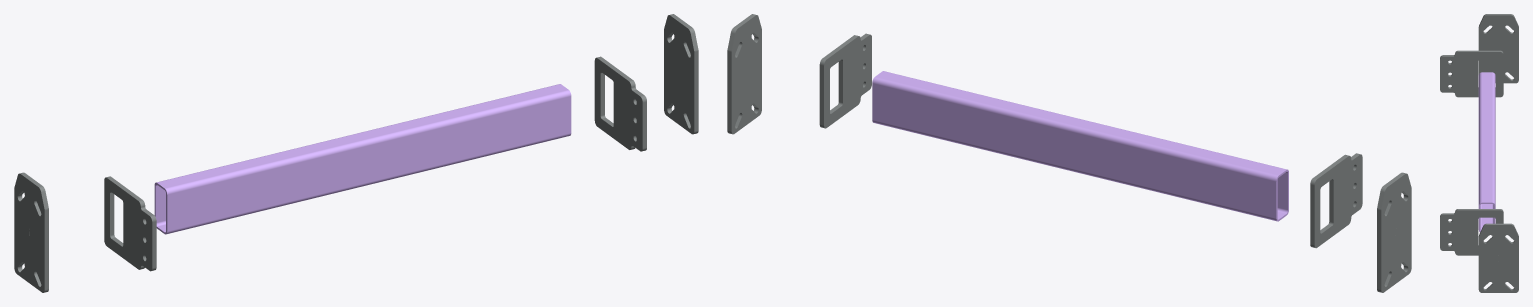
The model's file is bodylock.glb.
The picture shows the model from 3 angles, left to right: view 1: azimuth 30°, elevation 25°; view 2: azimuth 150°, elevation 25°; view 3: azimuth 270°, elevation 25°; orthographic projection. The views are drawn at different scales.
Visible parts, largest first — view 1: CFP055A BODYLOCK RHS A_STANDARD<As Machined>, STE463, STE689, STE690, STE688; view 2: CFP055A BODYLOCK RHS A_STANDARD<As Machined>, STE463, STE689, STE690, STE688; view 3: STE689, CFP055A BODYLOCK RHS A_STANDARD<As Machined>, STE688, STE463, STE690.
Boxes of the visible parts, x1,y1,x2,y2 form: CFP055A BODYLOCK RHS A_STANDARD<As Machined>: [154, 84, 571, 234]; STE463: [14, 172, 48, 292]; STE689: [664, 14, 698, 134]; STE690: [594, 56, 646, 151]; STE688: [104, 176, 156, 271]; CFP055A BODYLOCK RHS A_STANDARD<As Machined>: [872, 71, 1288, 221]; STE463: [1377, 172, 1411, 292]; STE689: [727, 14, 761, 134]; STE690: [819, 33, 871, 128]; STE688: [1310, 153, 1362, 248]; STE689: [1478, 223, 1518, 292]; CFP055A BODYLOCK RHS A_STANDARD<As Machined>: [1478, 72, 1495, 231]; STE688: [1440, 50, 1503, 97]; STE463: [1478, 14, 1518, 83]; STE690: [1440, 209, 1503, 255].
Bounding box in the file's own units: 1.5 × 0.225 × 0.236.
